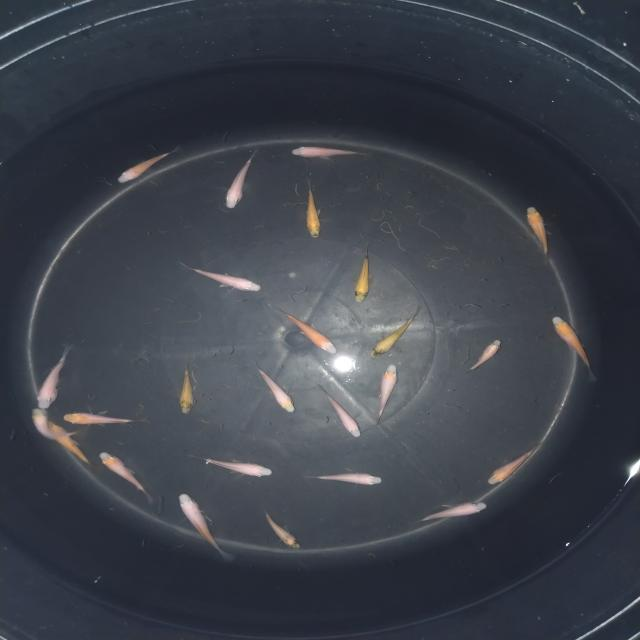nila: (176, 490, 240, 560), (550, 312, 600, 383), (366, 303, 424, 362), (275, 307, 343, 357), (99, 447, 158, 504), (222, 144, 265, 215), (486, 438, 546, 486), (112, 146, 178, 189), (176, 264, 270, 294), (248, 361, 300, 414), (32, 342, 72, 409), (318, 388, 365, 442), (521, 202, 557, 272), (410, 499, 490, 528), (194, 452, 274, 479), (284, 142, 376, 164), (370, 362, 400, 429), (260, 509, 306, 551), (351, 240, 380, 306), (51, 424, 92, 469), (32, 408, 78, 448), (456, 338, 506, 374), (59, 409, 148, 428), (302, 178, 326, 242), (312, 470, 386, 490), (174, 362, 200, 416)
